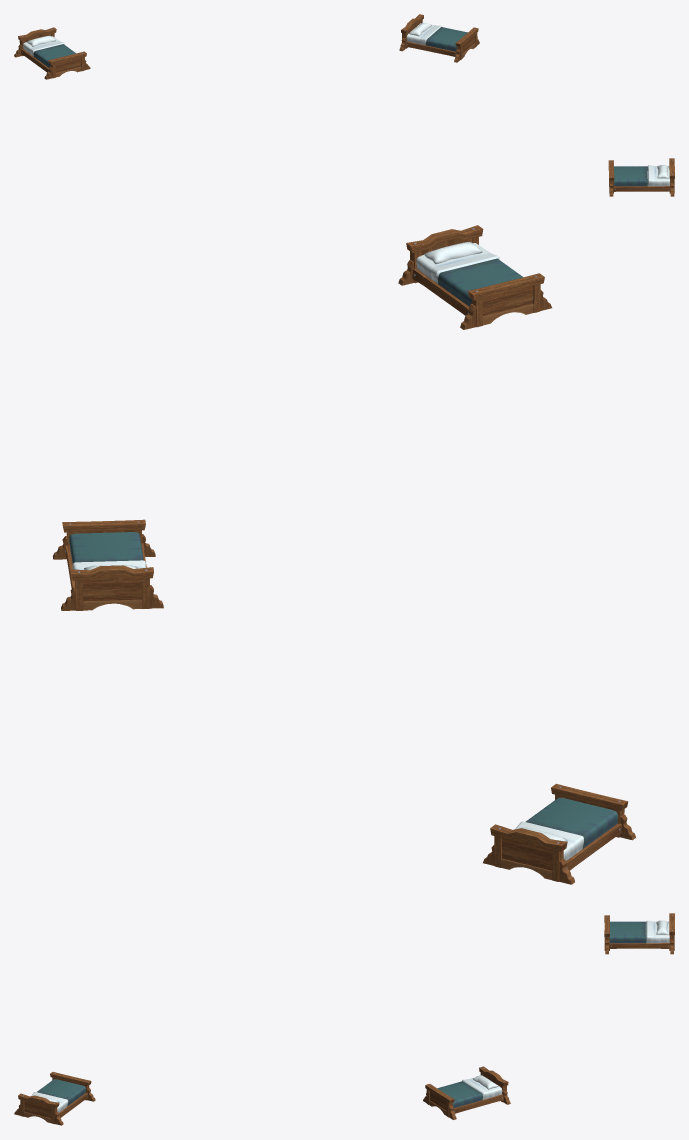
The model's file is Beds.fbx.
3 renders of one model, top to bottom at view 1: azimuth 30°, elevation 25°; view 2: azimuth 150°, elevation 25°; view 3: azimuth 270°, elevation 25°, orthographic. The views are drawn at different scales.
Parts seen in each view (by area): view 1: Bed_Twin1.002; view 2: Bed_Twin1.002; view 3: Bed_Twin1.002.
Part boxes in pixels (<box>): Bed_Twin1.002: <box>14,14,674,196</box>; Bed_Twin1.002: <box>53,225,635,884</box>; Bed_Twin1.002: <box>14,913,674,1125</box>.
Bounding box in the file's own units: 22.11 × 1.13 × 31.74.
Materials: 3 (3 with a texture image).
